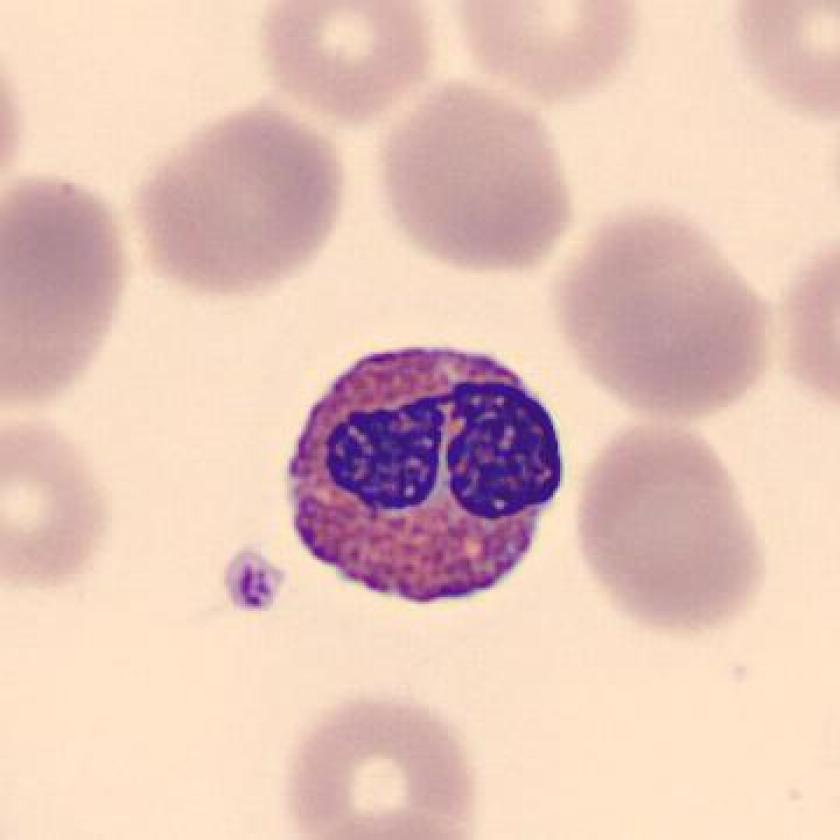eosinophil: (272, 334, 575, 614)
